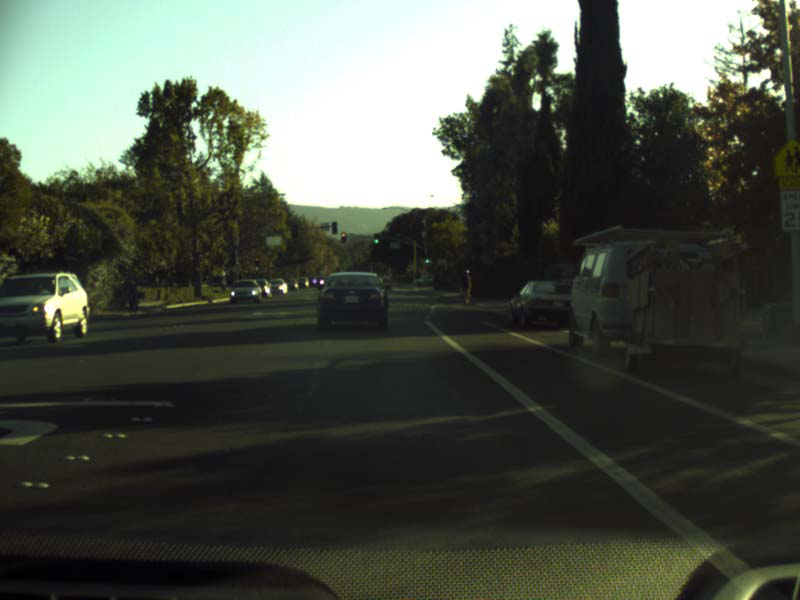Green: (373, 233, 379, 245), (423, 255, 429, 267)
Red: (340, 231, 345, 242)
